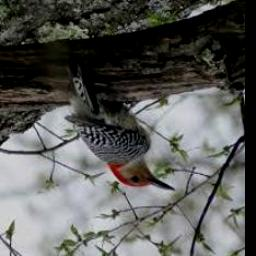Woodpecker: (66, 62, 176, 192)
